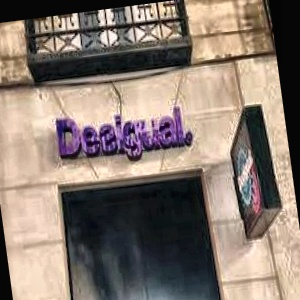desigual: (145, 46, 222, 152)
